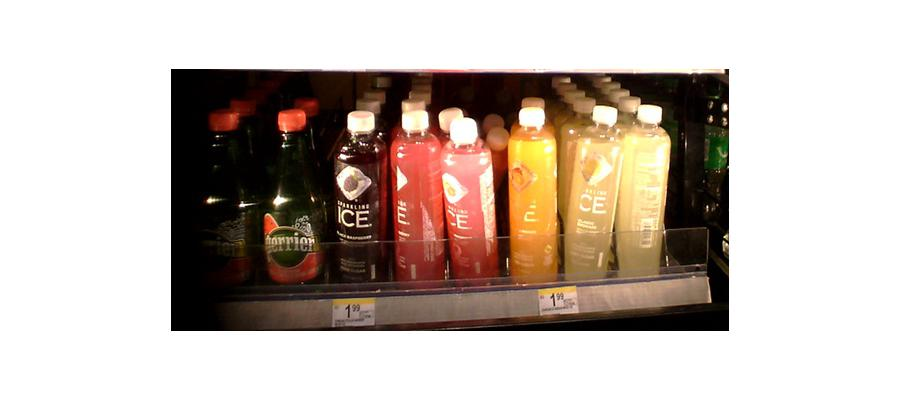bottle: (263, 104, 323, 291), (330, 108, 390, 285), (561, 107, 623, 275), (504, 103, 561, 283), (442, 119, 502, 281), (619, 98, 673, 278), (393, 108, 447, 283)
